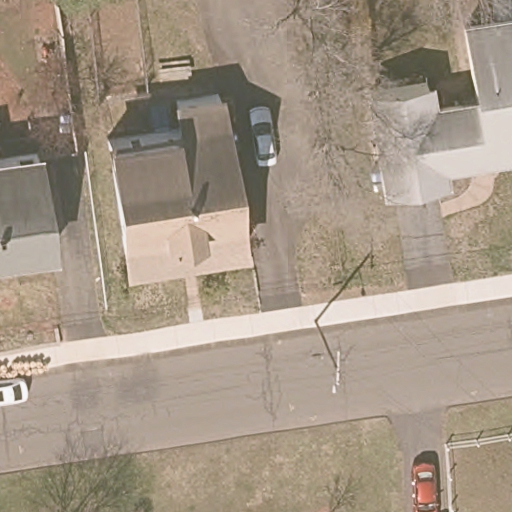DT: (312, 321, 349, 395)
